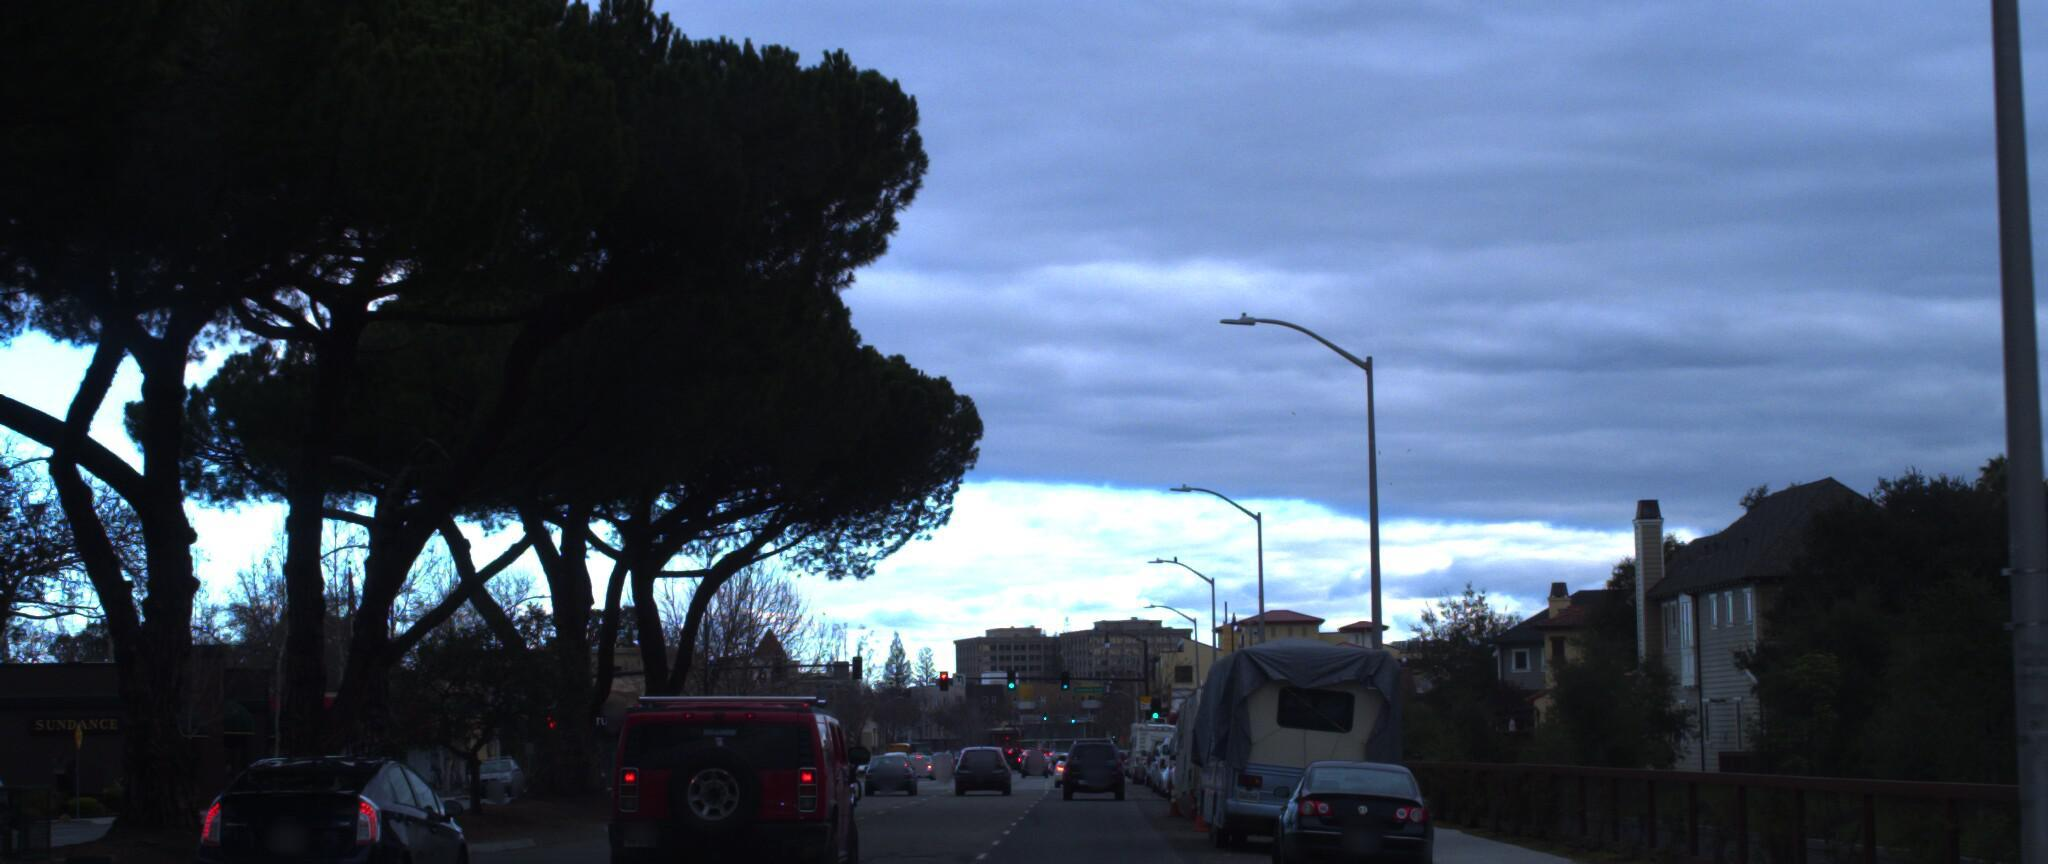car: (618, 683, 876, 864), (193, 748, 469, 864), (1276, 739, 1429, 864)
other_vehicle: (1194, 630, 1379, 831), (1172, 659, 1320, 810)
